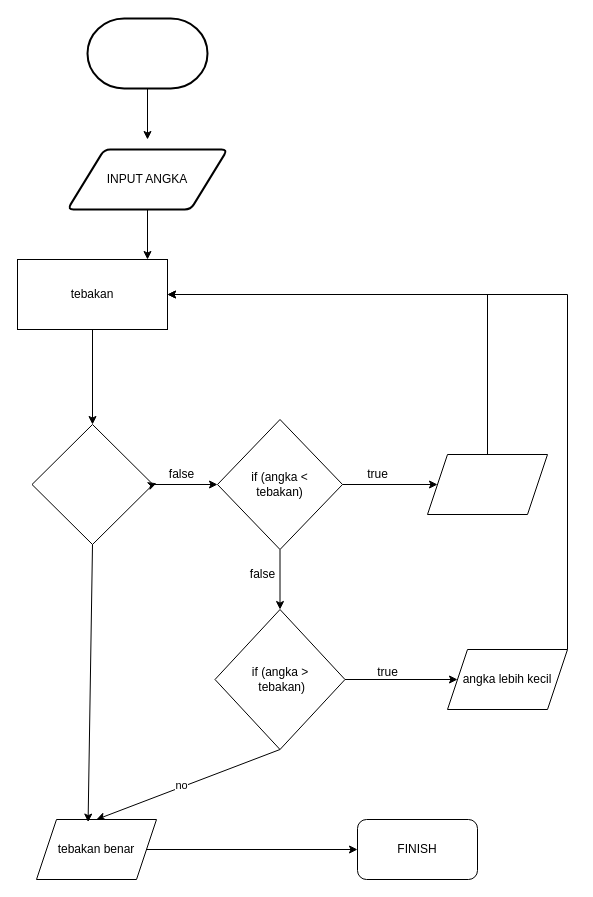
Image size: 593x897. Some labels were removed from this diagram. The centre of each missing label's shape, as x and y in pixels:
"angka lebih besar" belongs at (487,484).
"if ( angka == tebakan)" belongs at (92,484).
"STAR" belongs at (147,53).
